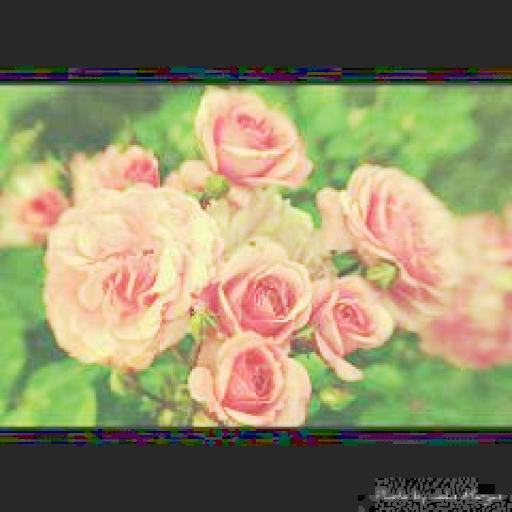rose: (45, 183, 220, 365), (196, 85, 314, 188), (192, 330, 309, 424), (220, 239, 311, 337), (311, 273, 397, 376)
